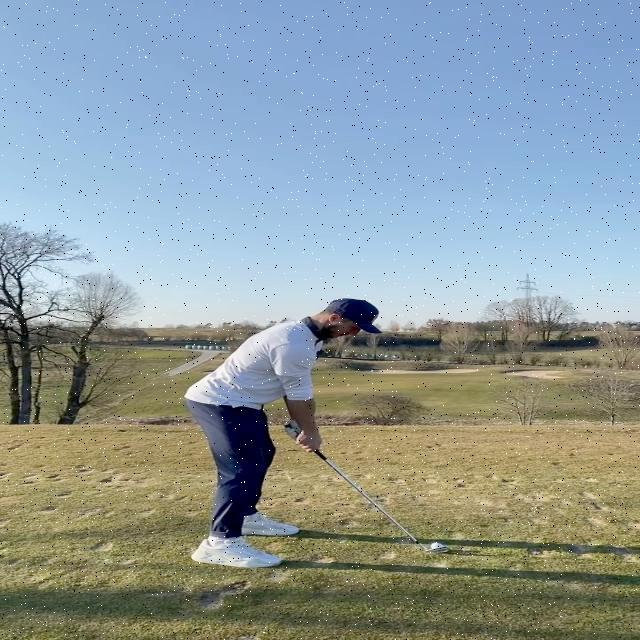golf ball: (432, 542, 443, 548)
golf club-handle: (284, 424, 450, 553)
golf club-head: (427, 546, 451, 553)
